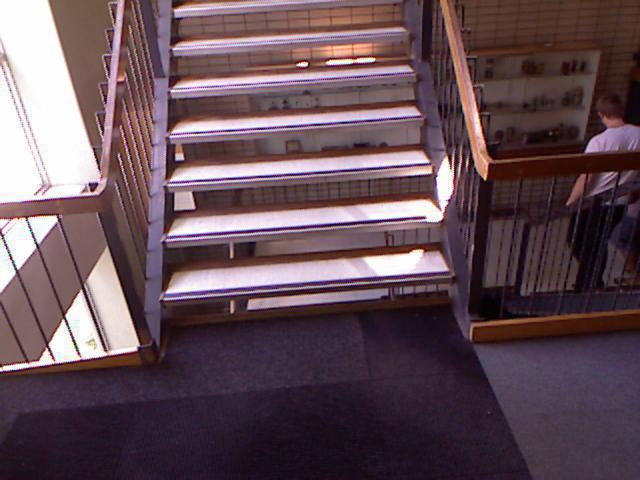Escaleras: (159, 10, 453, 312), (501, 271, 639, 353)
